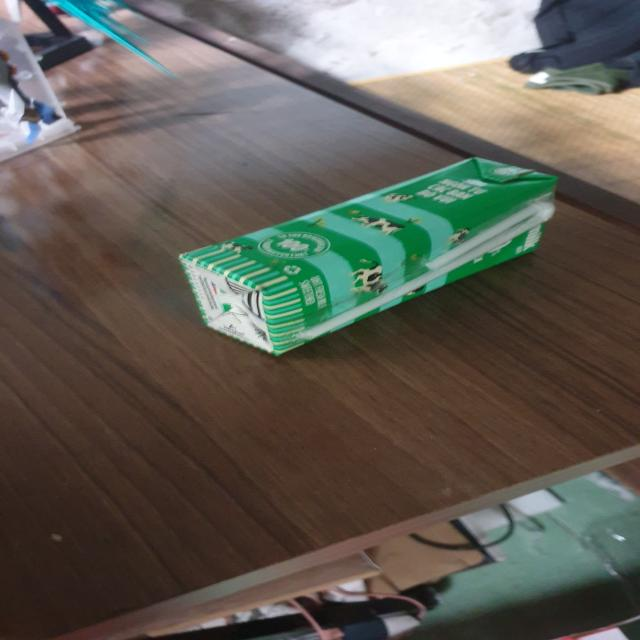Vina: (176, 156, 564, 361)
